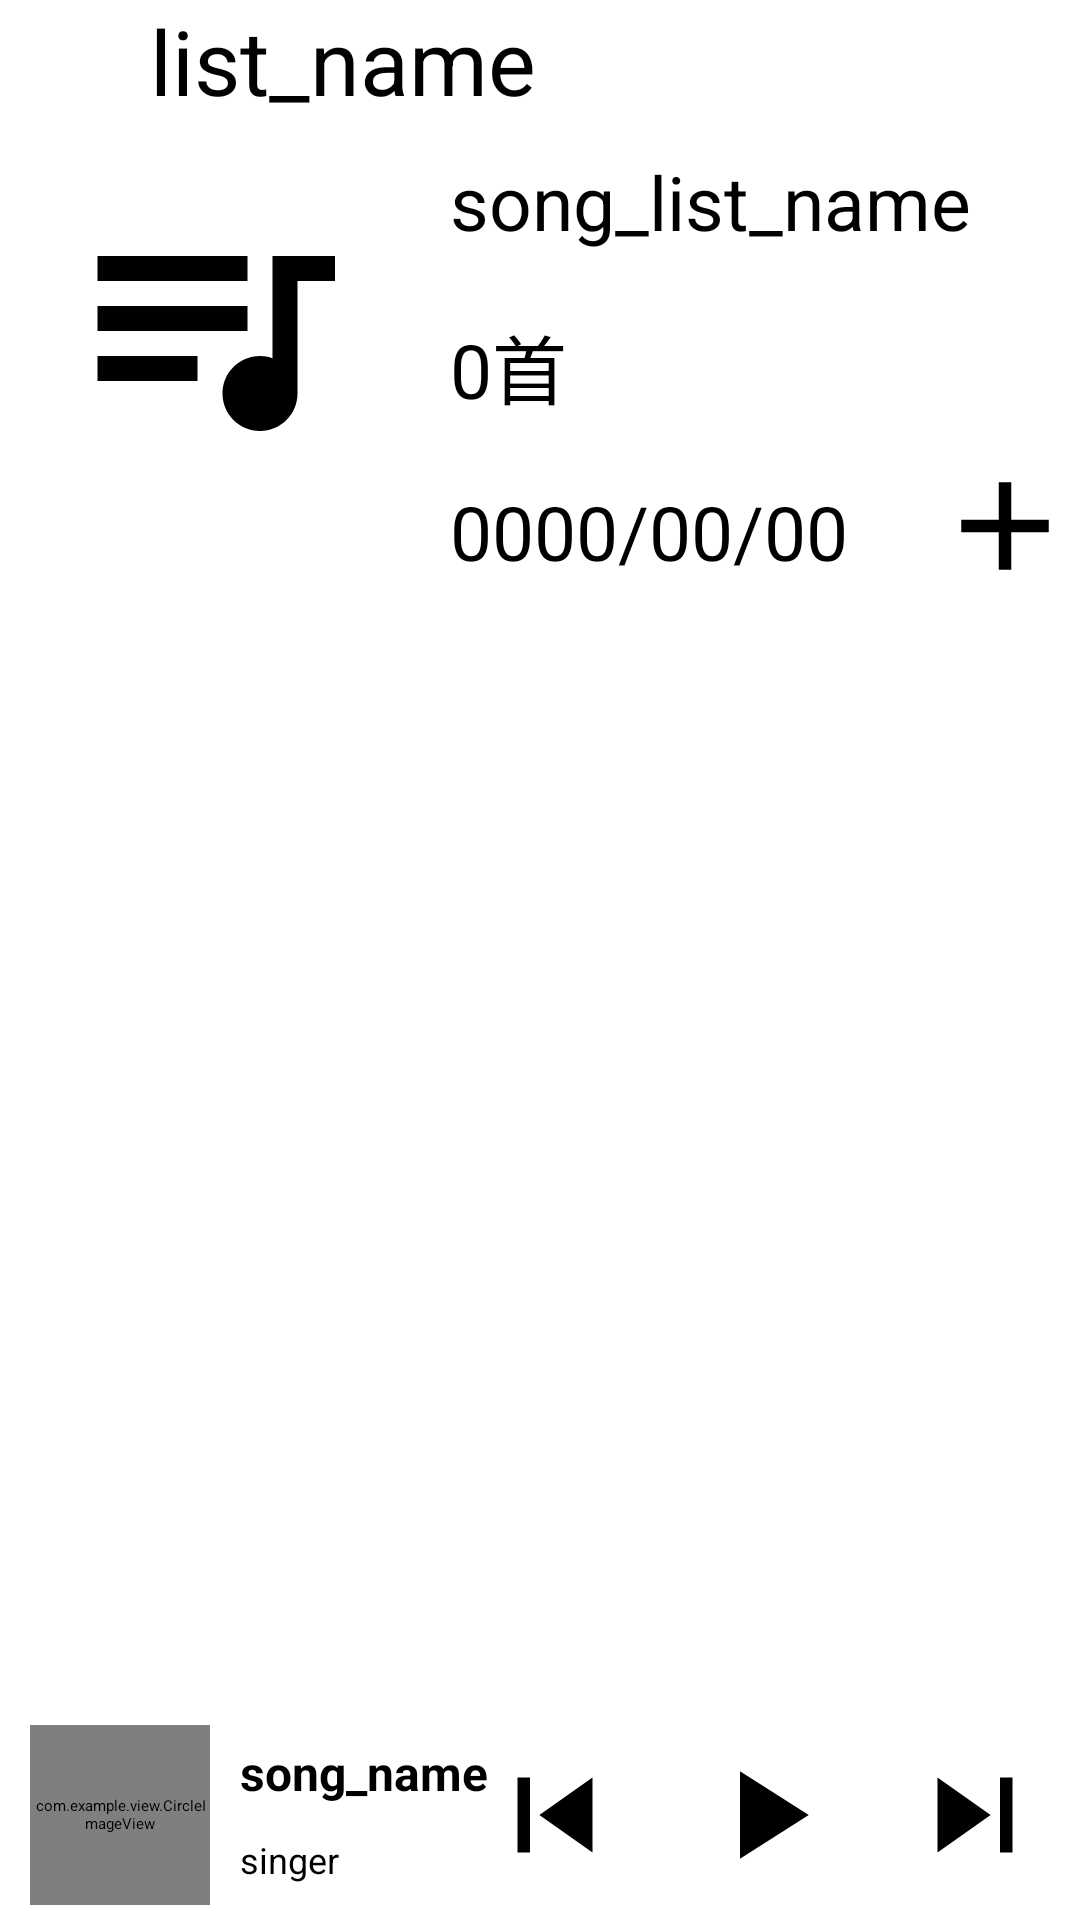

Screen size 1080px×1920px. Icon name, then its box in pixels as (x1, y1, x2, y2):
add: (961, 482, 1049, 570)
next: (937, 1777, 1013, 1853)
play: (740, 1771, 809, 1859)
prev: (517, 1777, 593, 1853)
